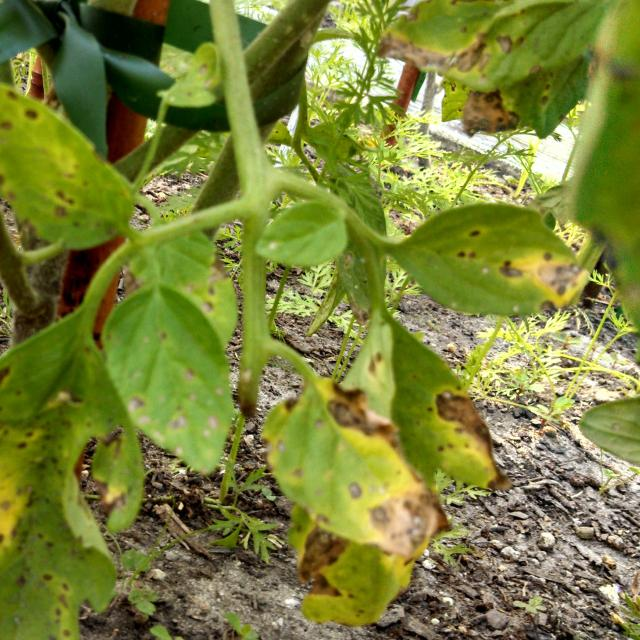Tomato Septoria leaf spot: (0, 307, 167, 640), (353, 305, 541, 516), (251, 330, 423, 560), (96, 269, 248, 483), (0, 77, 143, 263), (399, 190, 596, 320)
